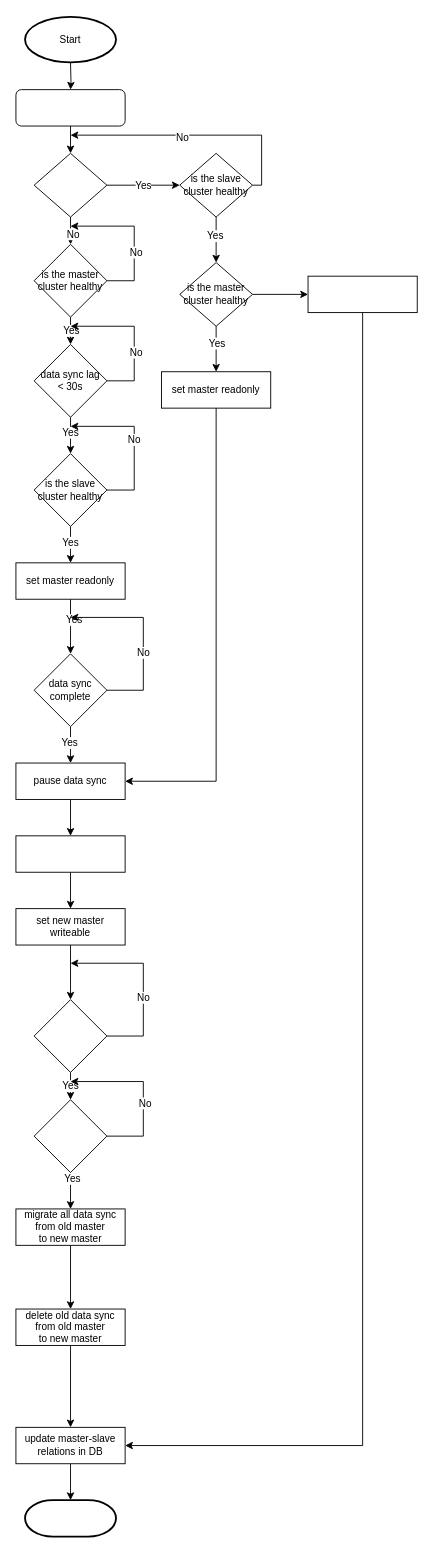
Some shapes in this 433 by 1552 pixel diagram are drawn without their labels. The shapes that lost their labels are listed below. From the top down, each one's centre as x and y in pixels, then its label:
At (70,107): "select master cluster".
At (70,184): "force".
At (362,294): "set new master writeable, set old master readonly".
At (70,853): "create reverse data sync".
At (70,1035): "is the new master cluster healthy".
At (70,1136): "check new data sync healthy".
At (70,1518): "Done".
